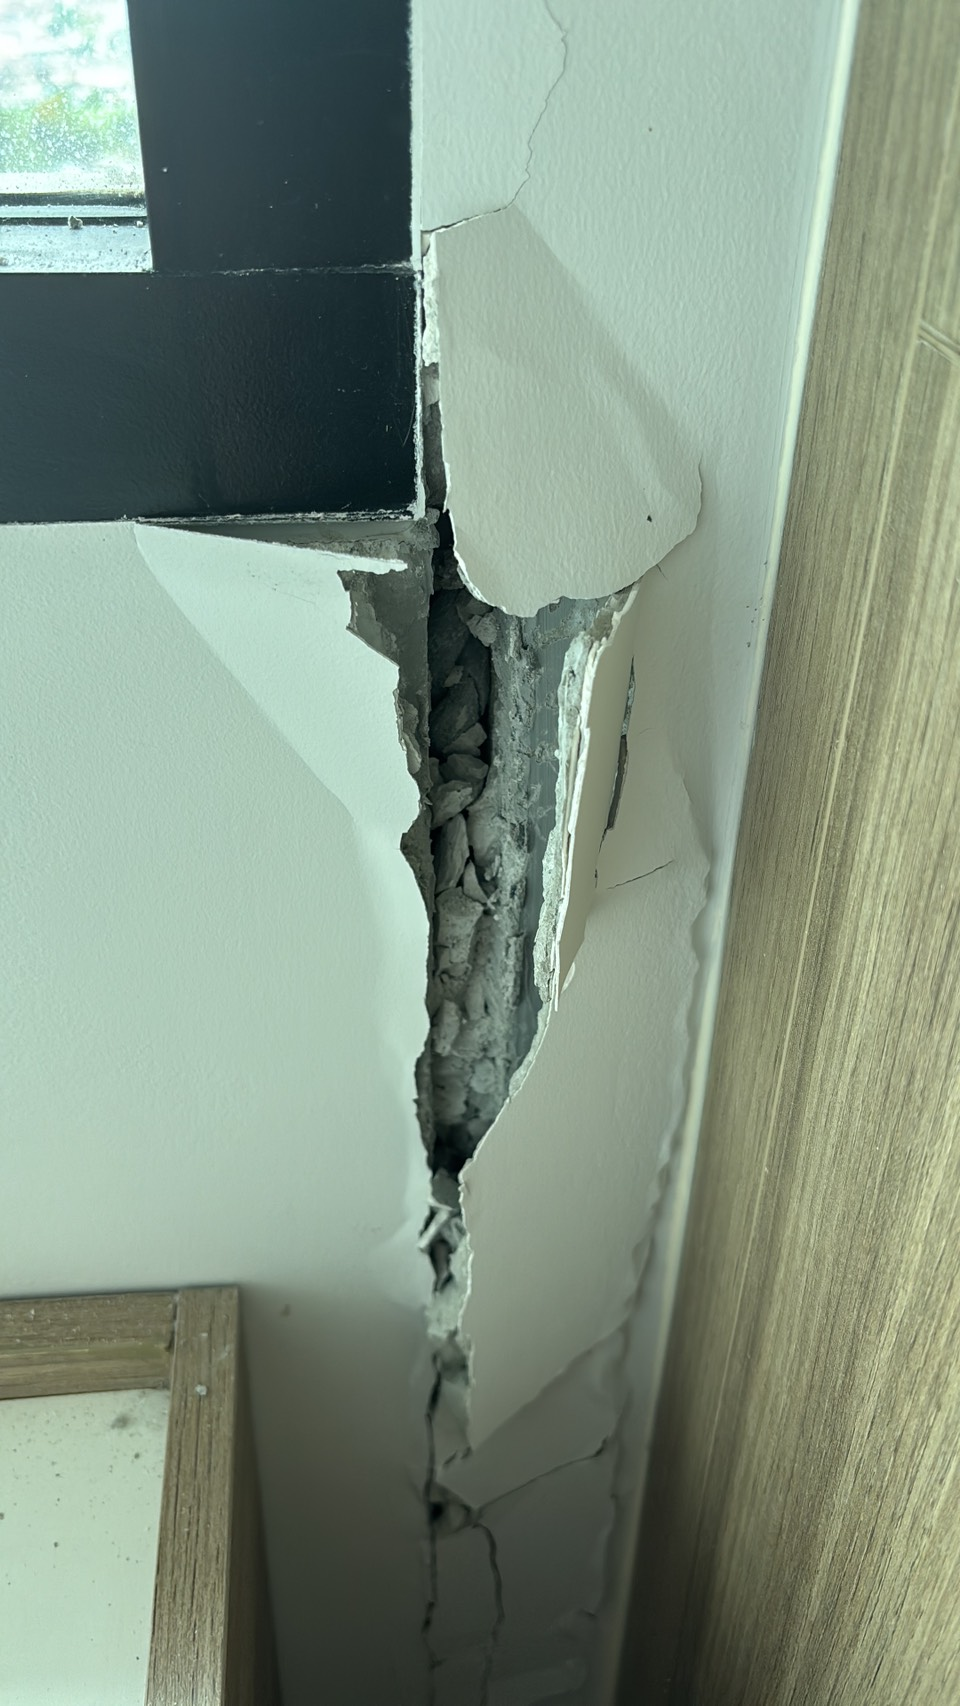High: (132, 185, 731, 1706)
